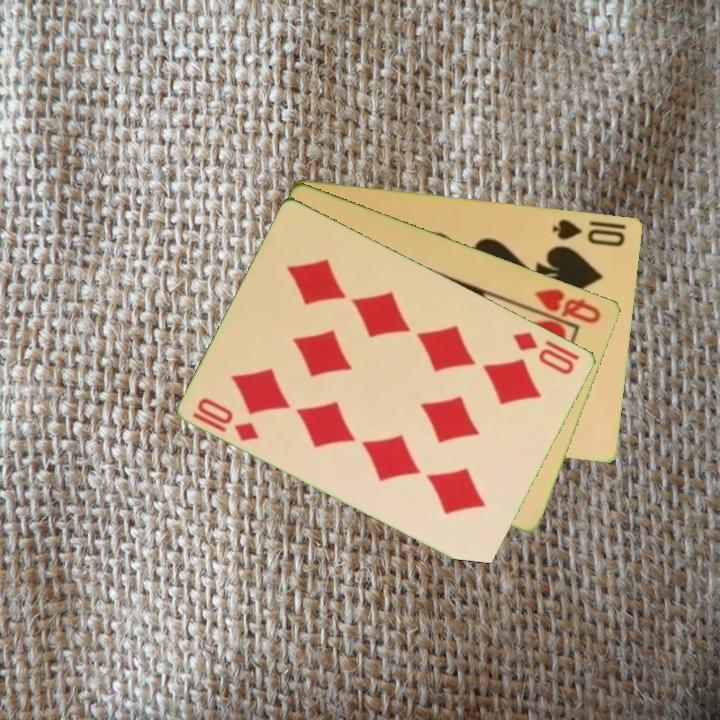10d: (189, 393, 263, 445), (510, 328, 578, 378)
10s: (549, 215, 628, 249)
Qh: (532, 284, 605, 327)
